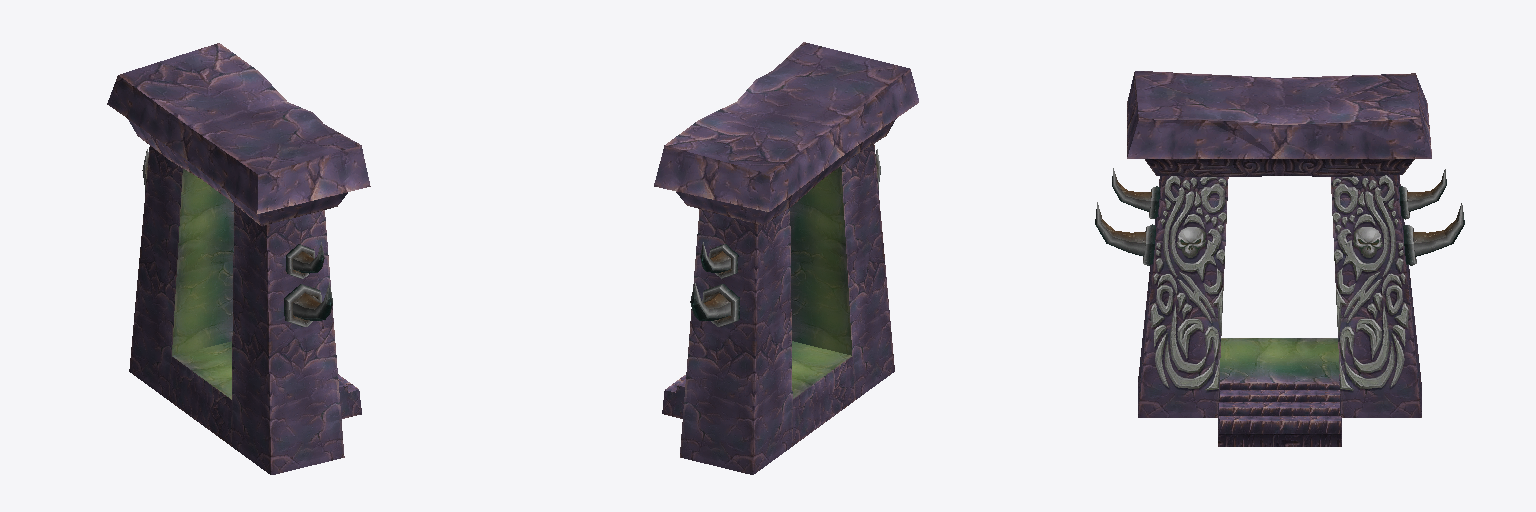
3 views of the same model, side by side, from view 1: azimuth 30°, elevation 25°; view 2: azimuth 150°, elevation 25°; view 3: azimuth 270°, elevation 25° (orthographic).
Visible parts, largest first — view 1: war2darkportal_set0.obj; view 2: war2darkportal_set0.obj; view 3: war2darkportal_set0.obj.
Boxes of the visible parts, x1=… form: war2darkportal_set0.obj: x1=107, y1=43, x2=370, y2=474; war2darkportal_set0.obj: x1=654, y1=42, x2=918, y2=474; war2darkportal_set0.obj: x1=1095, y1=71, x2=1464, y2=446.
Size of the model in its own units: 25.88 by 50.67 by 55.21.
Materials: 3 (3 with a texture image).